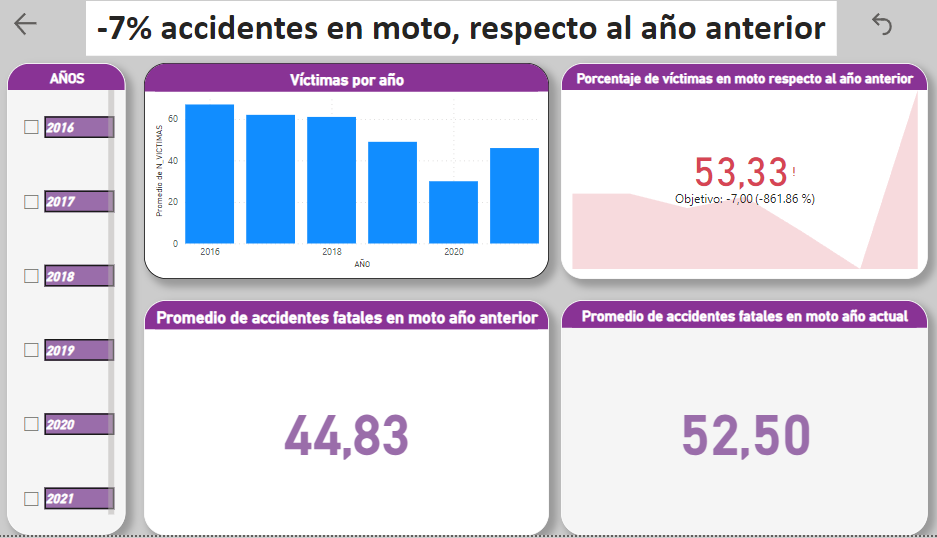

The dashboard page shown, as its layout file describes it:
{"tool":"powerbi","page":{"name":"KPI 2","canvas":[1280,720],"ordinal":3},"visuals":[{"type":"textbox","box":[139,8.3,1000.6,72.9],"z":0},{"type":"slicer","title":"AÑOS","fields":{"Values":["df_kpi_2.AÑO"]},"box":[33,90.8,158.3,629],"z":1},{"type":"columnChart","title":"Víctimas por año","fields":{"Category":["df_kpi_2.AÑO"],"Y":["Avg(df_kpi_2.N_VICTIMAS)"]},"box":[216.1,90.8,539.5,287.7],"z":2},{"type":"kpi","title":"Porcentaje de víctimas en moto respecto al año anterior","fields":{"Indicator":["Avg(df_kpi_2.VARIACION_DE_VICTIMAS)"],"TrendLine":["df_kpi_2.AÑO"],"Goal":["df_kpi_2.Objetivo2"]},"box":[772.1,90.8,488.6,287.7],"z":3},{"type":"card","title":"Promedio de accidentes fatales en moto año anterior","fields":{"Values":["Avg(df_kpi_2.VICTIMAS_ANTERIORES)"]},"box":[216.1,406,539.5,313.8],"z":4},{"type":"card","title":"Promedio de accidentes fatales en moto año actual","fields":{"Values":["Avg(df_kpi_2.N_VICTIMAS)"]},"box":[772.1,406,488.6,313.8],"z":5},{"type":"actionButton","box":[1179.5,19.3,100.5,39.9],"z":6},{"type":"actionButton","box":[38.5,19.3,100.5,39.9],"z":7}]}

Visuals, with their boxes in screenshot pixels (x1, y1, x2, y2), scaled from the page's 1280x720 canvas onto the 937x538 screenshot:
textbox: region(102, 6, 834, 61)
"AÑOS" slicer: region(24, 68, 140, 537)
"Víctimas por año" columnChart: region(158, 68, 553, 283)
"Porcentaje de víctimas en moto respecto al año anterior" kpi: region(565, 68, 923, 283)
"Promedio de accidentes fatales en moto año anterior" card: region(158, 303, 553, 537)
"Promedio de accidentes fatales en moto año actual" card: region(565, 303, 923, 537)
actionButton: region(863, 14, 936, 44)
actionButton: region(28, 14, 102, 44)
